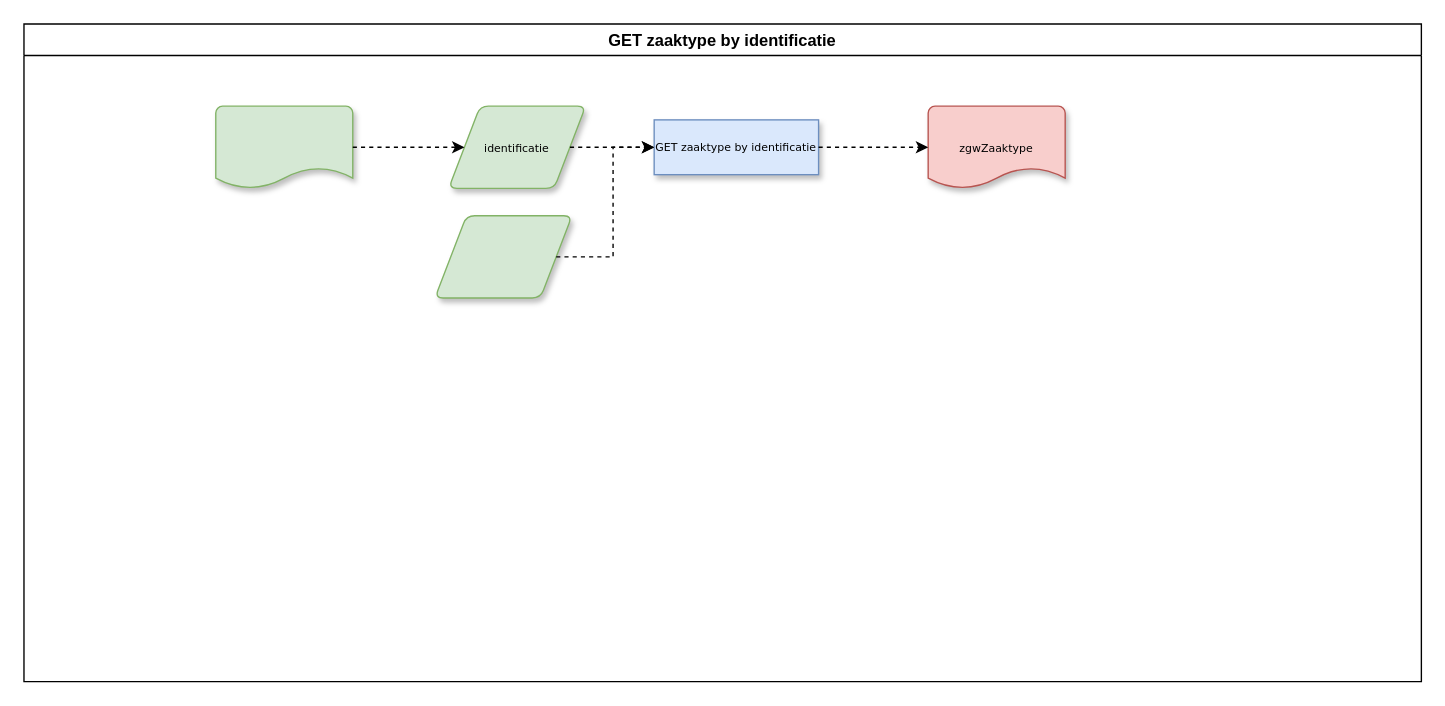
This 1445x706 diagram has some shape labels left out. Each missing label, with the centre of its shape:
status="definitief": (x=504, y=258)
zdsZaak: (x=285, y=148)
